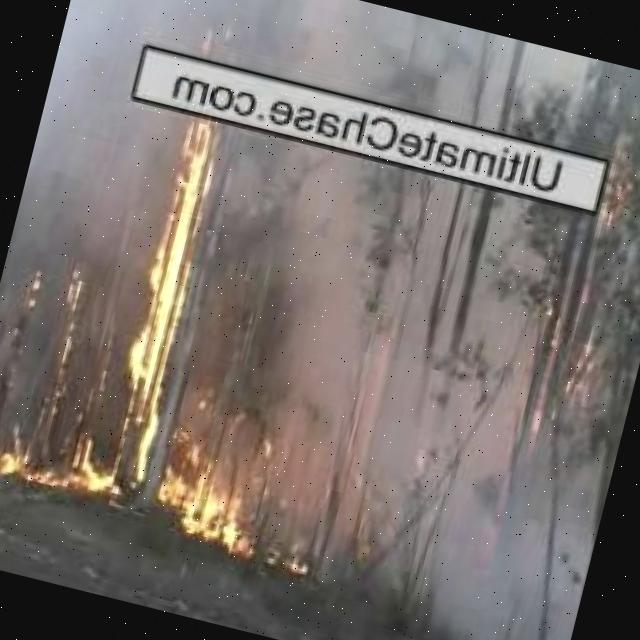fire: (93, 95, 233, 505), (146, 409, 319, 567), (529, 307, 623, 443), (0, 410, 94, 497), (578, 130, 640, 252), (36, 266, 93, 393)
